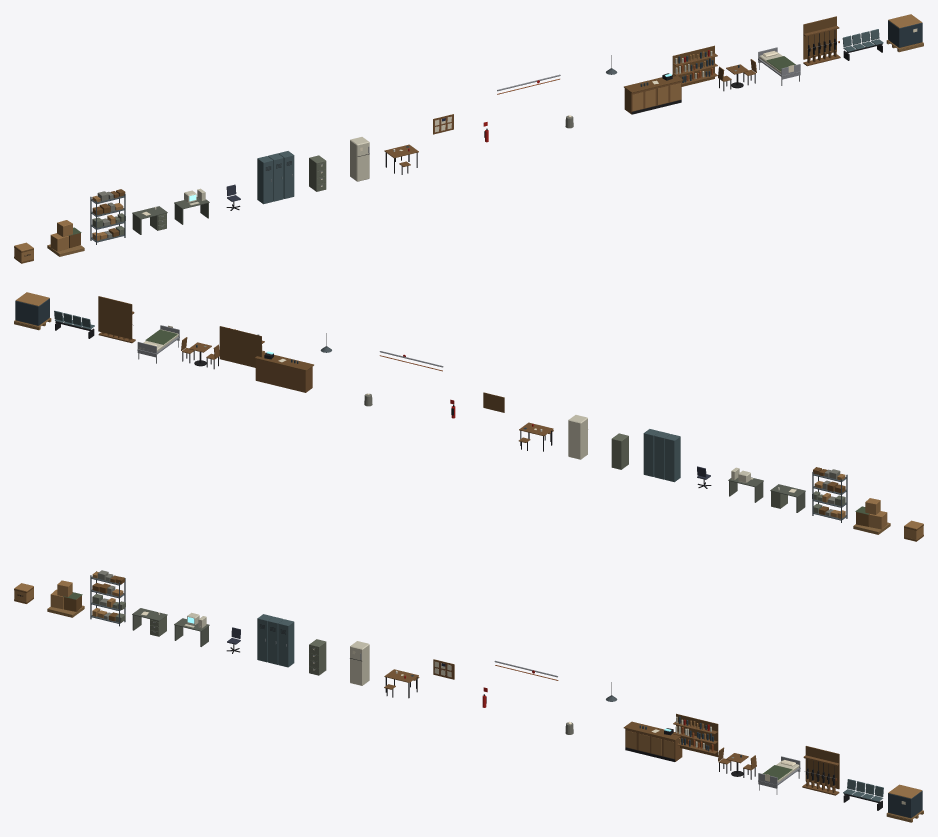
File: depot_kit.glb
3 views of the same model, one above another, from view 1: azimuth 30°, elevation 25°; view 2: azimuth 150°, elevation 25°; view 3: azimuth 330°, elevation 25° (orthographic).
Parts seen in each view (by area): view 1: GR_Back, Fridge_Body, BShelf_Back, Locker_0, Pal_Wrap, Locker_2, Locker_1; view 2: BShelf_Back, Counter_Body, GR_Back, Fridge_Body, Locker_0, Pal_Wrap, Cab_Body, Locker_2, Locker_1; view 3: GR_Back, Fridge_Body, BShelf_Back, Locker_2, Pal_Wrap, Locker_0, Locker_1.
Part boxes in pixels (x1=…): GR_Back: x1=803, y1=16, x2=836, y2=59; Fridge_Body: x1=350, y1=137, x2=369, y2=181; BShelf_Back: x1=672, y1=45, x2=714, y2=86; Locker_0: x1=257, y1=156, x2=273, y2=204; Pal_Wrap: x1=888, y1=20, x2=922, y2=47; Locker_2: x1=278, y1=151, x2=294, y2=198; Locker_1: x1=268, y1=153, x2=283, y2=201; BShelf_Back: x1=219, y1=326, x2=261, y2=367; Counter_Body: x1=255, y1=359, x2=312, y2=392; GR_Back: x1=98, y1=296, x2=132, y2=339; Fridge_Body: x1=568, y1=415, x2=587, y2=459; Locker_0: x1=664, y1=434, x2=680, y2=482; Pal_Wrap: x1=15, y1=298, x2=49, y2=325; Cab_Body: x1=611, y1=433, x2=628, y2=469; Locker_2: x1=643, y1=429, x2=659, y2=476; Locker_1: x1=654, y1=431, x2=669, y2=479; GR_Back: x1=805, y1=746, x2=839, y2=789; Fridge_Body: x1=350, y1=641, x2=369, y2=685; BShelf_Back: x1=676, y1=713, x2=718, y2=756; Locker_2: x1=278, y1=619, x2=294, y2=667; Pal_Wrap: x1=888, y1=790, x2=922, y2=817; Locker_0: x1=257, y1=614, x2=273, y2=662; Locker_1: x1=268, y1=616, x2=283, y2=664.
Bounding box in the file's own units: 42.91 × 2.8 × 1.97.
